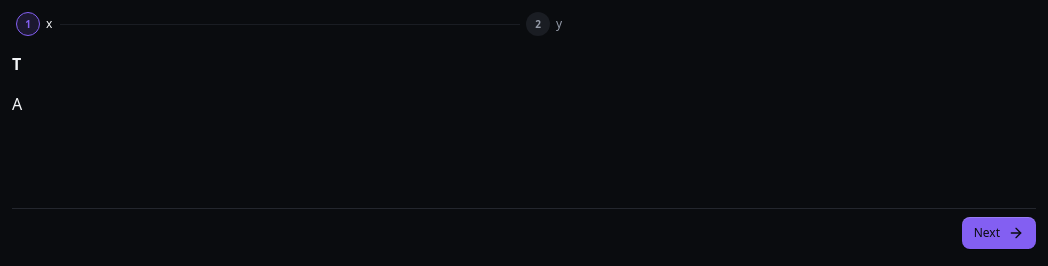
Wizard — onEnter hook › calls onEnter when going back to a step
The width and height of the screenshot is (1048, 266).
Later steps or results of the test are not shown.
What coordinates should you click on to do the following:
click the button "Next"
I would click on:
 (999, 233)
Its box is [962,217,1036,249].
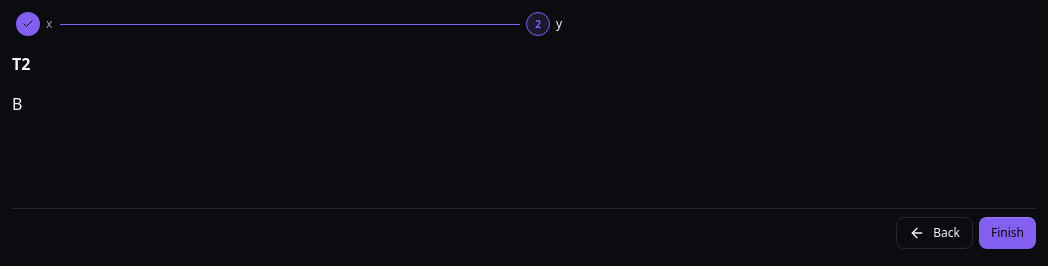
Now the text "B" is shown, box [12,93,22,115]
